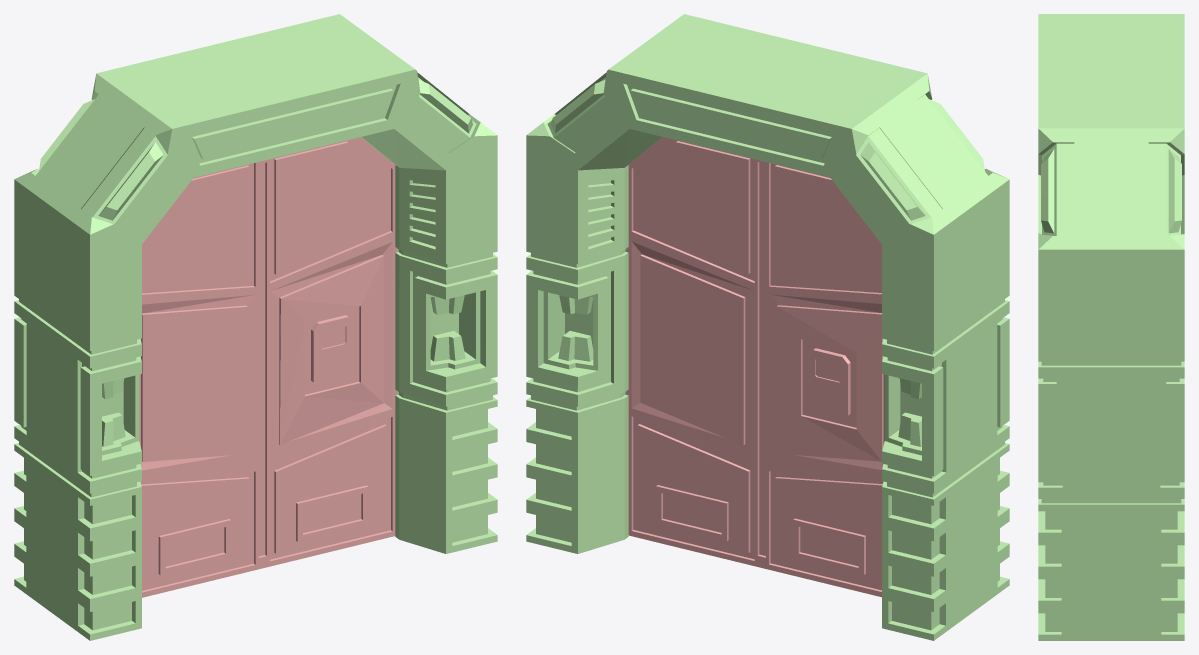
The model's file is SeparateDoor.fbx.
3 views of the same model, side by side, from view 1: azimuth 30°, elevation 25°; view 2: azimuth 150°, elevation 25°; view 3: azimuth 270°, elevation 25° (orthographic). The views are drawn at different scales.
Parts seen in each view (by area): view 1: Puerta, Puerta.002, Puerta.001; view 2: Puerta, Puerta.002, Puerta.001; view 3: Puerta.
Boxes of the visible parts, <box> form: Puerta: <box>14,14,497,640</box>; Puerta.002: <box>261,137,397,568</box>; Puerta.001: <box>139,161,262,597</box>; Puerta: <box>526,14,1009,640</box>; Puerta.002: <box>626,137,763,567</box>; Puerta.001: <box>761,161,884,597</box>; Puerta: <box>1038,14,1184,640</box>.
Size of the model in its own units: 226 by 260 by 72.76.
